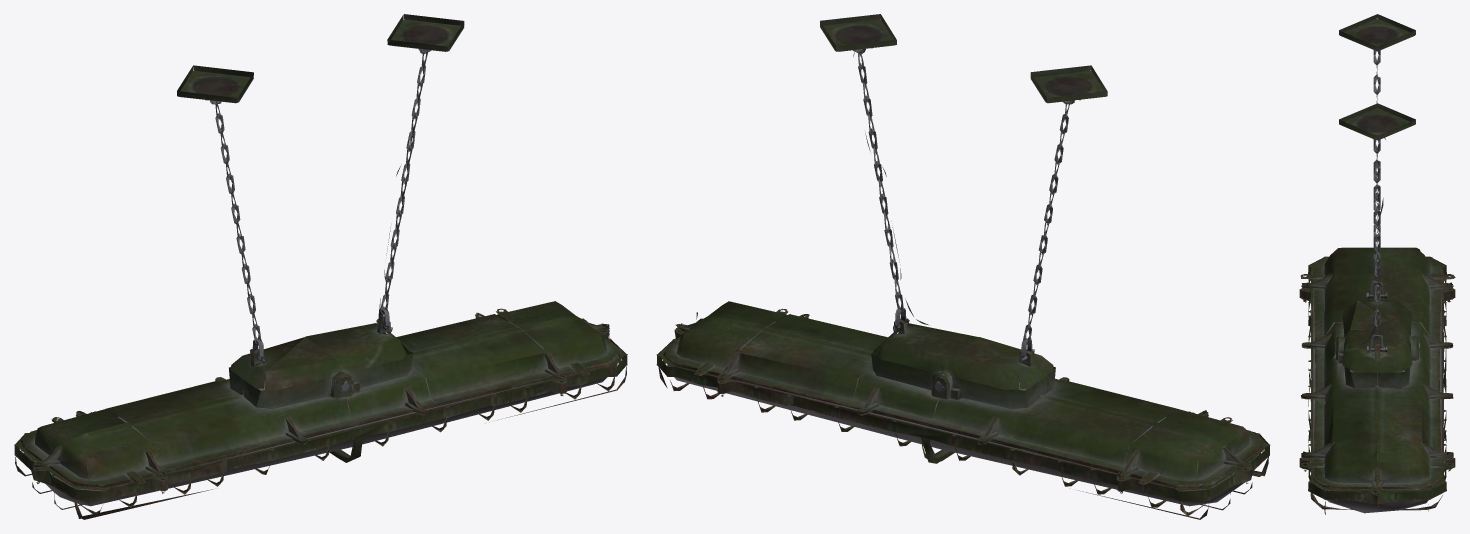
Rendered from caged_hanging_light.glb.
The picture shows the model from 3 angles, left to right: view 1: azimuth 30°, elevation 25°; view 2: azimuth 150°, elevation 25°; view 3: azimuth 270°, elevation 25°; orthographic projection. The views are drawn at different scales.
Visible parts, largest first — view 1: caged_hanging_light; view 2: caged_hanging_light; view 3: caged_hanging_light.
Boxes of the visible parts, left/top/right/bottom form: caged_hanging_light: left=14, top=14, right=627, bottom=519; caged_hanging_light: left=656, top=14, right=1270, bottom=519; caged_hanging_light: left=1299, top=14, right=1455, bottom=514.
Bounding box in the file's own units: 1.17 × 0.7501 × 0.3147.
Materials: 1 (1 with a texture image).
